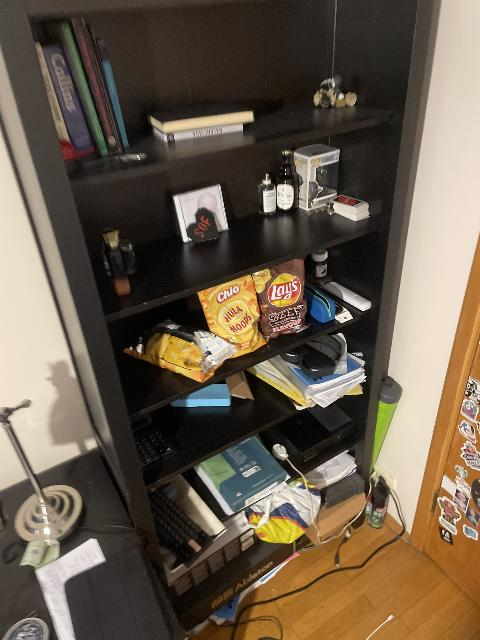Chio Cascaval 125g: (125, 320, 229, 383)
Chio Hula Hoops Cheese 70g: (197, 274, 268, 353)
Lays Beef Grilled Ribs 125g: (256, 259, 310, 337)
